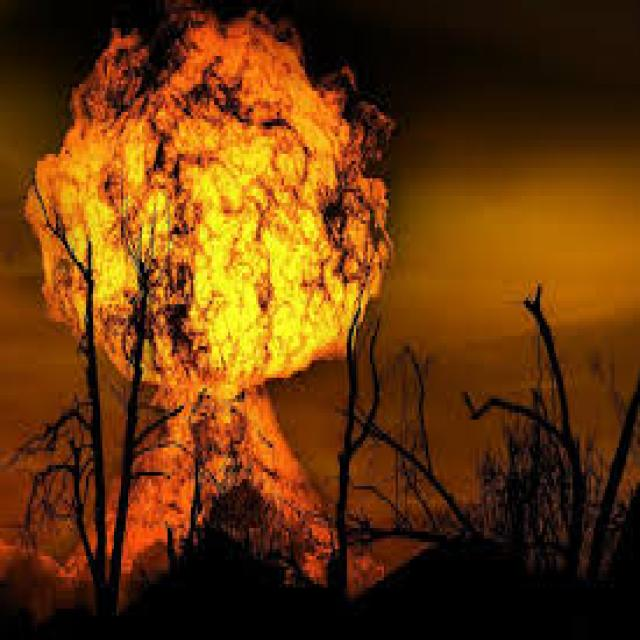fire: (37, 59, 403, 546)
